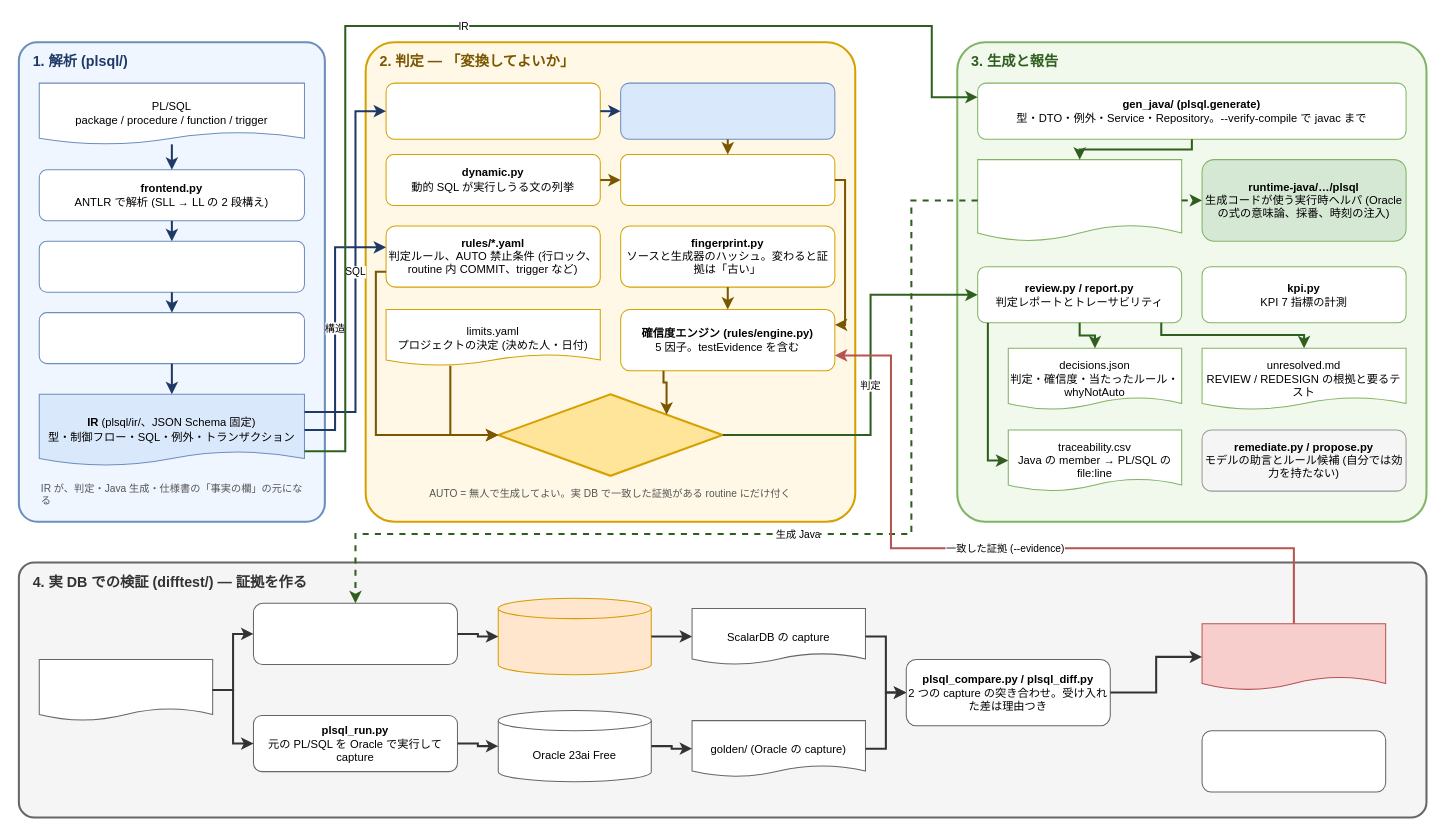
This 1444x835 diagram has some shape labels left out. Here are the shapes that lost their labels. From the top down, the centre of each, then its label:
(492,110): sqlbridge.py IR の SQL を変換ツールへ渡す (式の持ち上げ)
(727,110): scalardb_migrate/ SQL 文の変換 (SQLGlot)
(727,180): capability.py ScalarDB で実行できるか
(1079,200): generated/ (Java) Service / Repository / domain トランザクション境界は呼び出し側
(171,266): symbols.py シンボル表、%TYPE / %ROWTYPE の解決
(171,338): lower.py 構文木 → IR (lowering)
(610,434): AUTO / REVIEW / REDESIGN routine ごと
(354,633): plsql_capture.py 生成 Java を ScalarDB で実行して capture (金額の 2 規約)
(574,636): ScalarDB Cluster → バックエンド DB
(1293,656): plsql-diff.json 証拠 (--evidence)
(125,689): シナリオ (YAML) fixtures/plsql/scenarios/
(1293,761): plsql_semantics.py 実機 Oracle から式の意味論を記録
